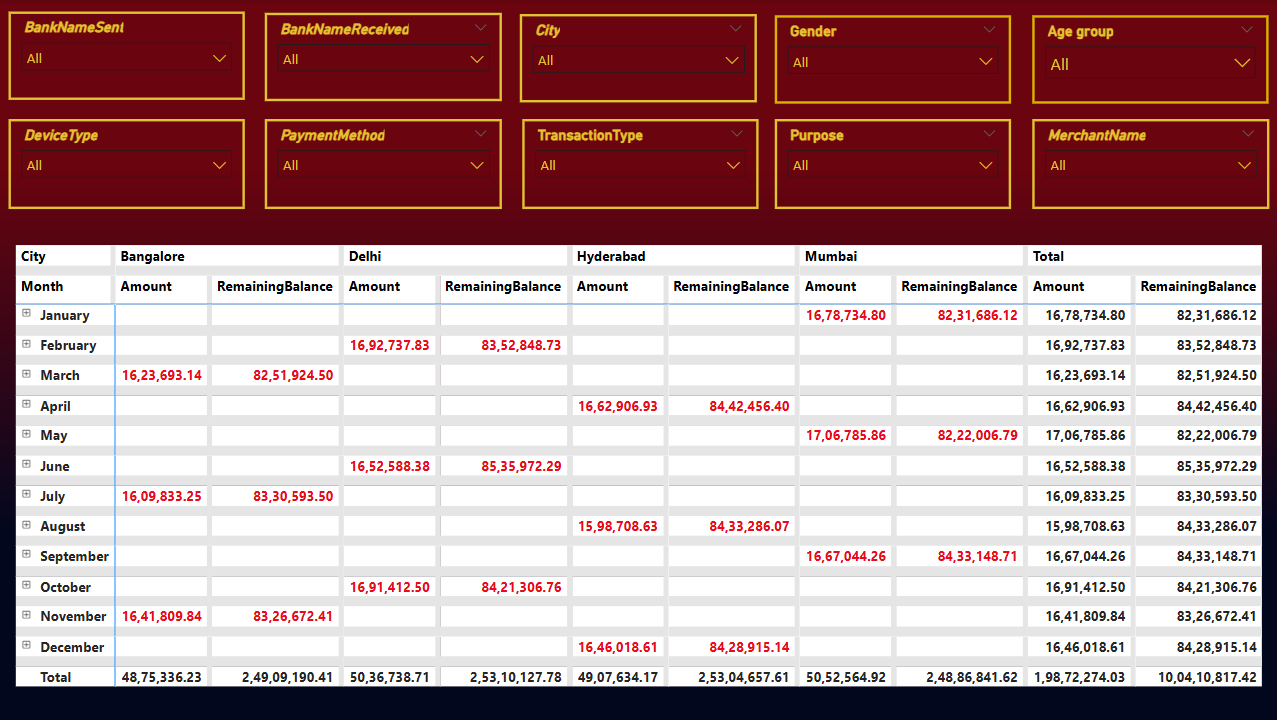

The dashboard page shown, as its layout file describes it:
{"tool":"powerbi","page":{"name":"Page 2","canvas":[1280,720],"ordinal":1},"visuals":[{"type":"slicer","fields":{"Values":["Sheet1.BankNameSent"]},"box":[12.4,12.4,235.1,88.3],"z":0},{"type":"slicer","fields":{"Values":["Sheet1.BankNameReceived"]},"box":[267.5,13.7,236.4,88.3],"z":1000},{"type":"slicer","fields":{"Values":["Sheet1.City"]},"box":[521.2,14.9,236.4,88.3],"z":2000},{"type":"slicer","fields":{"Values":["Sheet1.Gender"]},"box":[775,16.2,235.1,88.3],"z":3000},{"type":"slicer","fields":{"Values":["Sheet1.DeviceType"]},"box":[12.4,119.4,235.1,89.6],"z":4000},{"type":"slicer","fields":{"Values":["Sheet1.PaymentMethod"]},"box":[267.5,119.4,236.4,89.6],"z":5000},{"type":"slicer","fields":{"Values":["Sheet1.Purpose"]},"box":[775,119.4,235.1,89.6],"z":6000},{"type":"slicer","fields":{"Values":["Sheet1.MerchantName"]},"box":[1031.2,119.4,236.4,89.6],"z":7000},{"type":"slicer","fields":{"Values":["Sheet1.Age group"]},"box":[1031.2,16.2,235.1,88.3],"z":8000},{"type":"pivotTable","fields":{"Rows":["Sheet1.TransactionDate.Variation.Date Hierarchy.Month","Sheet1.TransactionDate.Variation.Date Hierarchy.Day"],"Values":["Sum(Sheet1.Amount)","Sum(Sheet1.RemainingBalance)"],"Columns":["Sheet1.City","Sheet1.Currency"]},"box":[15.3,240.7,1252.2,480],"z":9000},{"type":"slicer","fields":{"Values":["Sheet1.TransactionType"]},"box":[523.7,119.4,235.1,89.6],"z":10000}]}

Visuals, with their boxes in screenshot pixels (x1, y1, x2, y2), scaled from the page's 1280x720 canvas onto the 1277x720 screenshot:
slicer - Sheet1.BankNameSent: x1=12 y1=12 x2=247 y2=101
slicer - Sheet1.BankNameReceived: x1=267 y1=14 x2=503 y2=102
slicer - Sheet1.City: x1=520 y1=15 x2=756 y2=103
slicer - Sheet1.Gender: x1=773 y1=16 x2=1008 y2=104
slicer - Sheet1.DeviceType: x1=12 y1=119 x2=247 y2=209
slicer - Sheet1.PaymentMethod: x1=267 y1=119 x2=503 y2=209
slicer - Sheet1.Purpose: x1=773 y1=119 x2=1008 y2=209
slicer - Sheet1.MerchantName: x1=1029 y1=119 x2=1265 y2=209
slicer - Sheet1.Age group: x1=1029 y1=16 x2=1263 y2=104
pivotTable - Sheet1.TransactionDate.Variation.Date Hierarchy.Month x Sheet1.TransactionDate.Variation.Date Hierarchy.Day: x1=15 y1=241 x2=1265 y2=719
slicer - Sheet1.TransactionType: x1=522 y1=119 x2=757 y2=209
